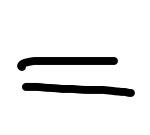eqv: (17, 57, 135, 97)
